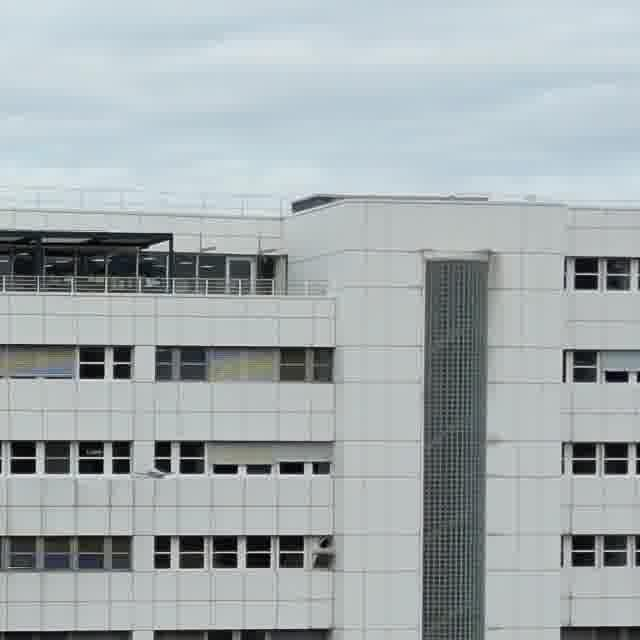Drohne: (134, 468, 169, 478)
